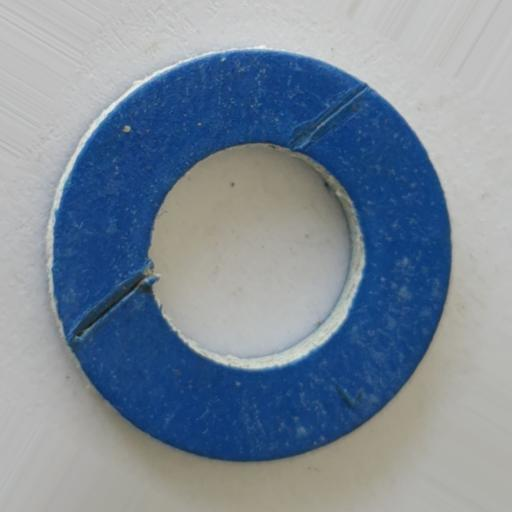defect: (68, 266, 156, 341), (290, 85, 371, 153)
